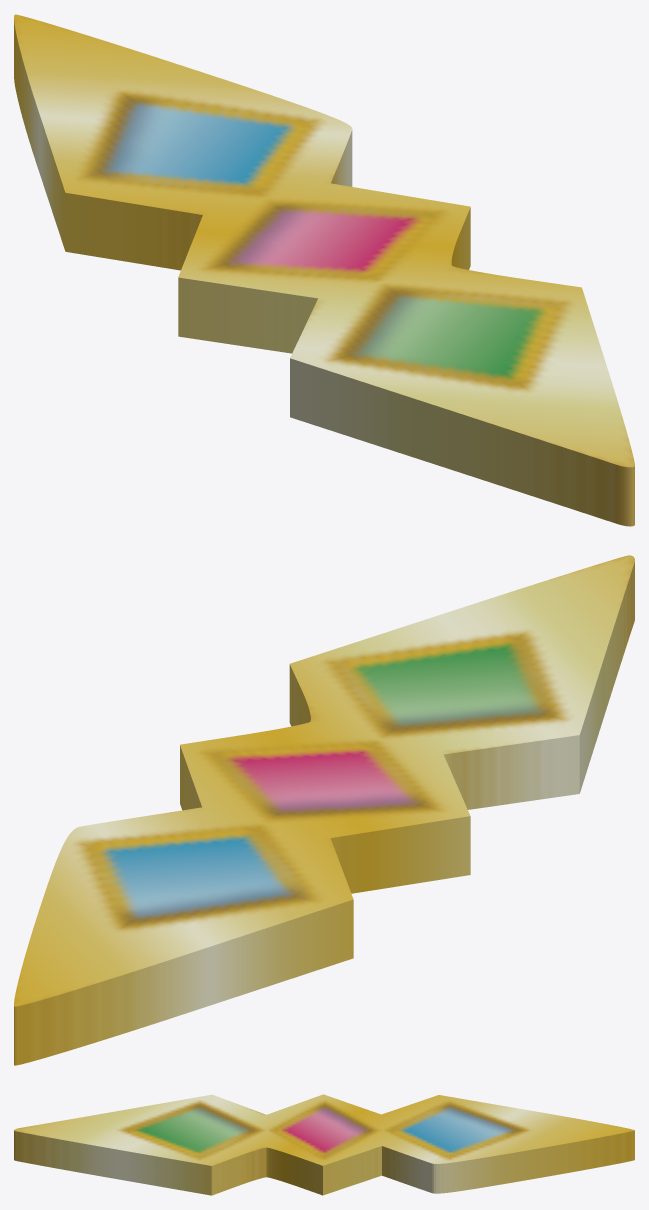
3 renders of one model, top to bottom at view 1: azimuth 30°, elevation 25°; view 2: azimuth 150°, elevation 25°; view 3: azimuth 270°, elevation 25°, orthographic. The views are drawn at different scales.
Parts seen in each view (by area): view 1: path1587; view 2: path1587; view 3: path1587.
Part boxes in pixels (x1=…): path1587: x1=14, y1=14, x2=634, y2=526; path1587: x1=14, y1=555, x2=634, y2=1065; path1587: x1=14, y1=1094, x2=634, y2=1195.
Bounding box in the file's own units: 25.92 × 5 × 94.87.
1 material, 1 textured.
